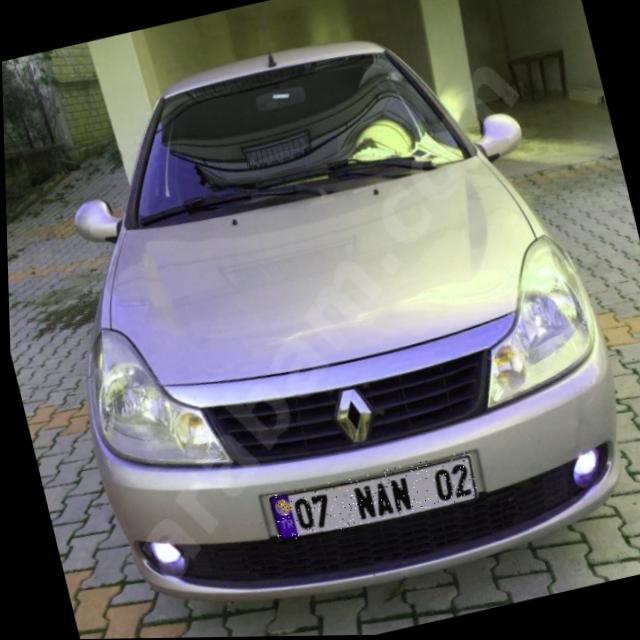license_plate: (264, 452, 477, 545)
